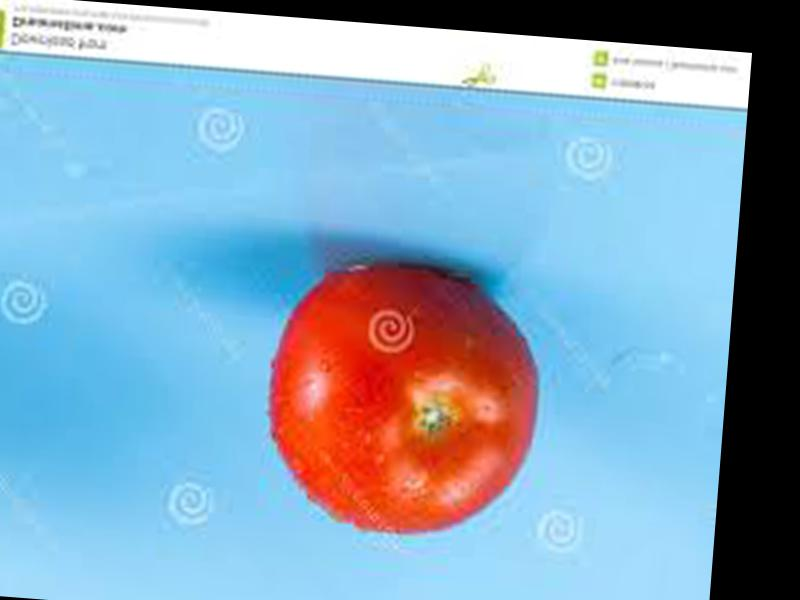Tomato: (259, 258, 551, 543)
